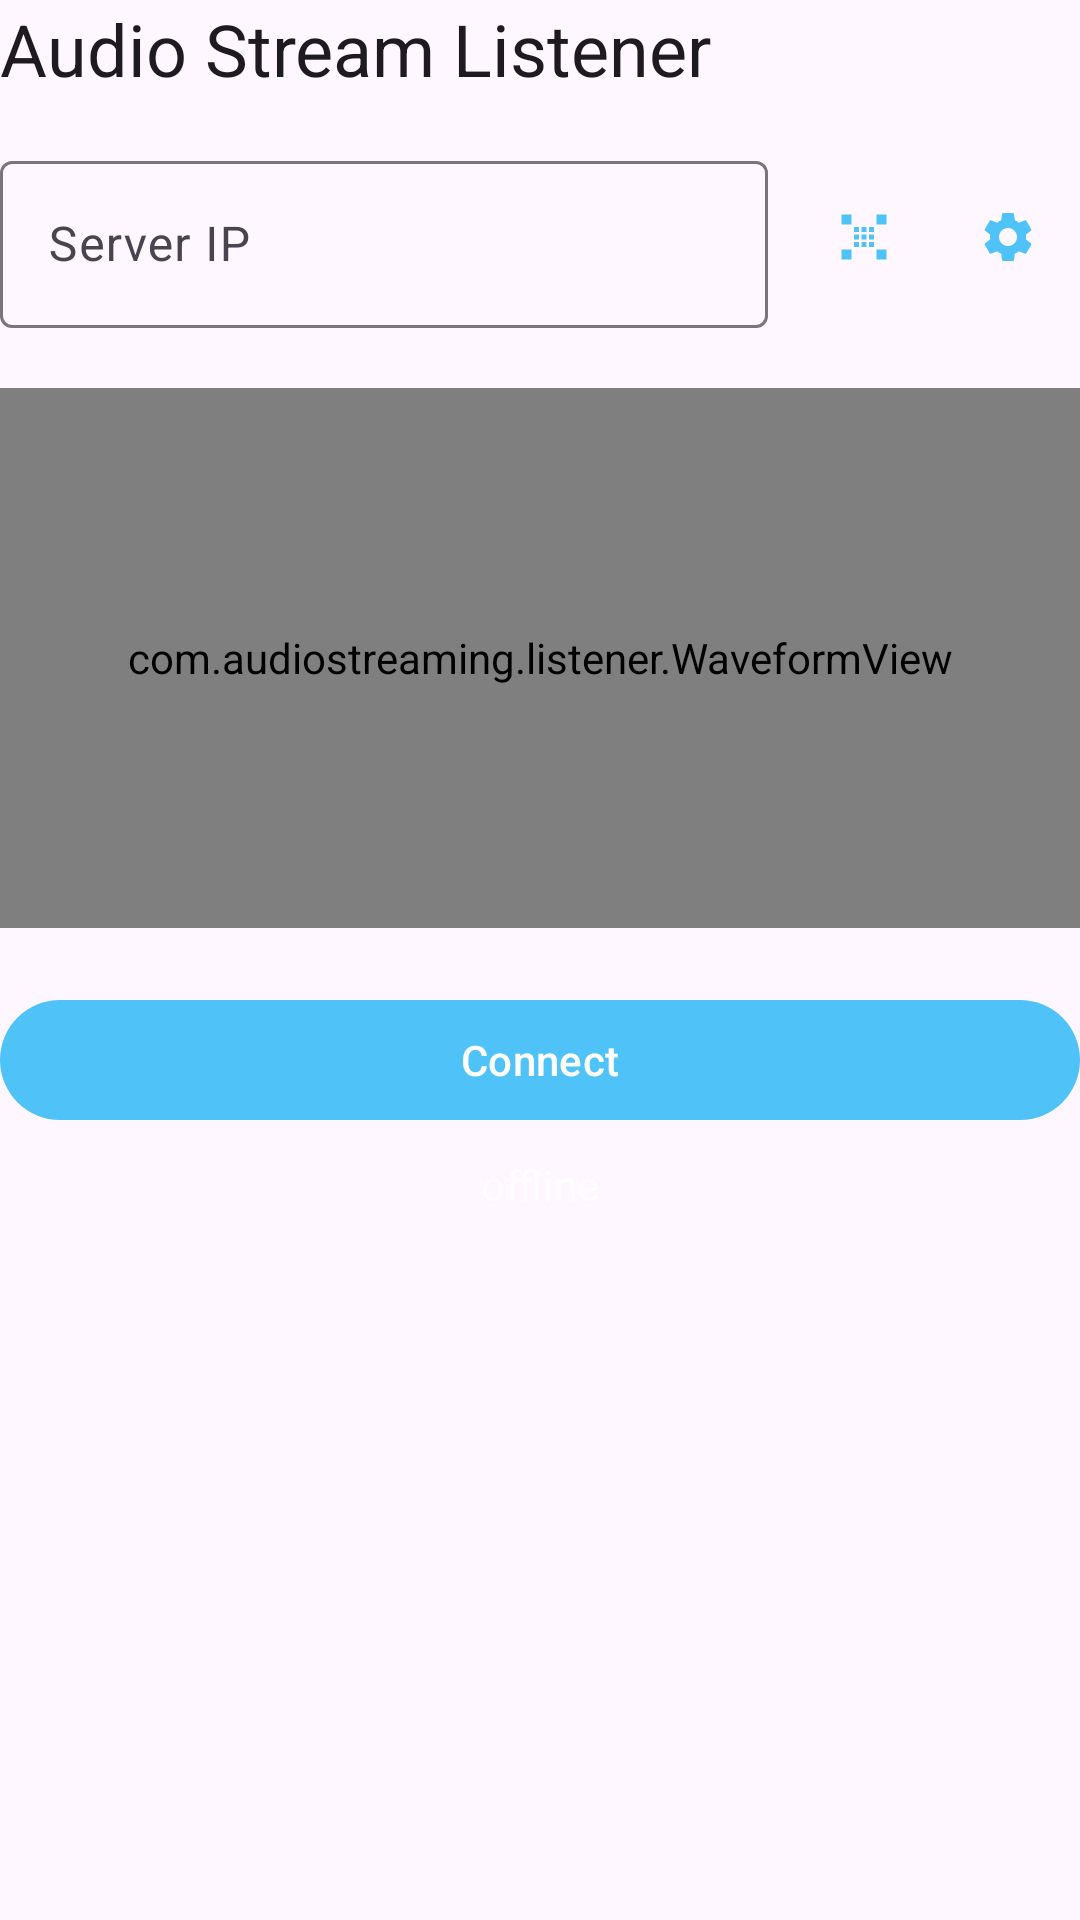

Where to tap for icons on this 1080w x 1920h app screen, as (x,y):
Port settings: (1008,237)
Scan QR code: (864,237)
